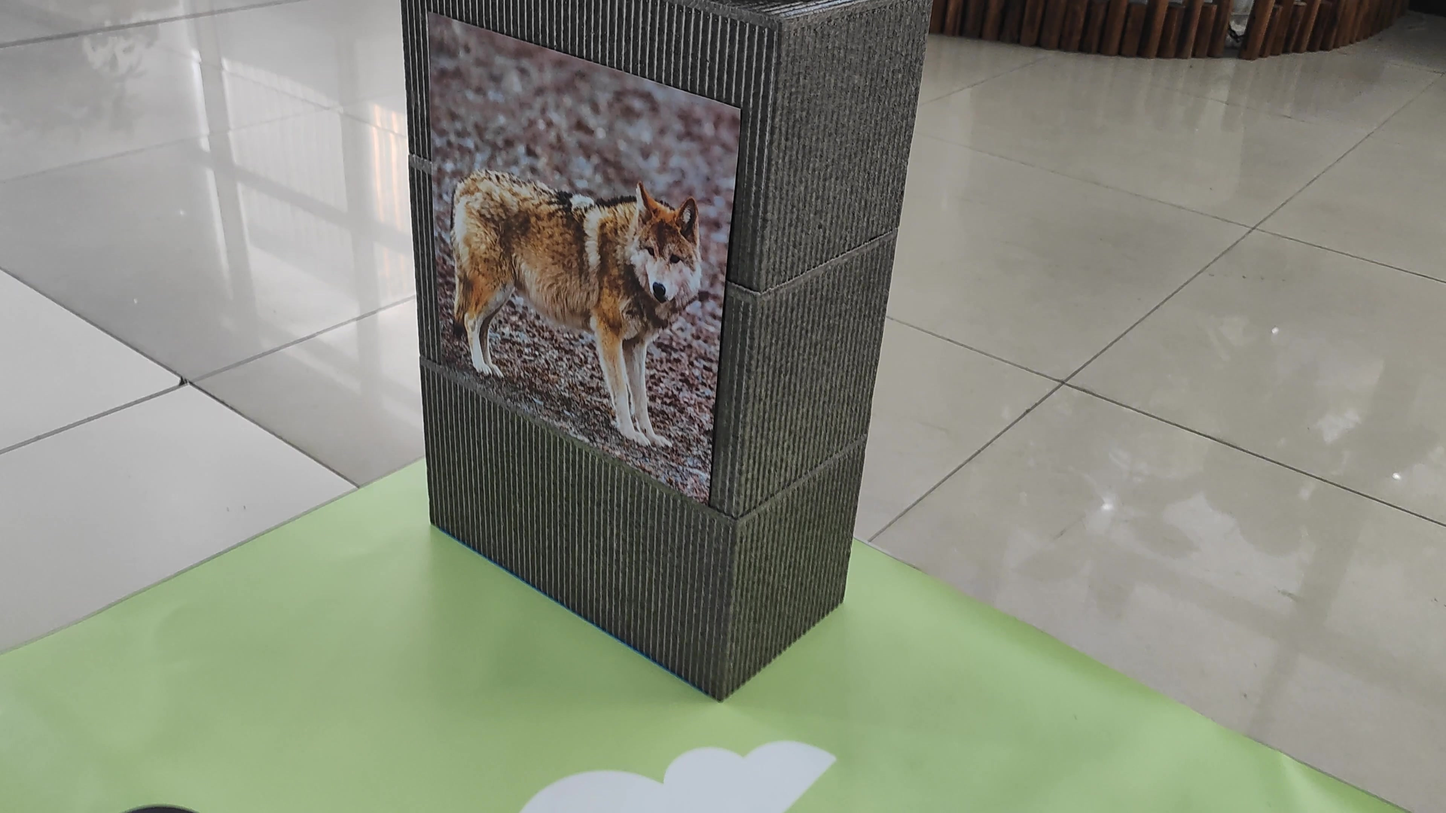wolf: (424, 17, 710, 455)
